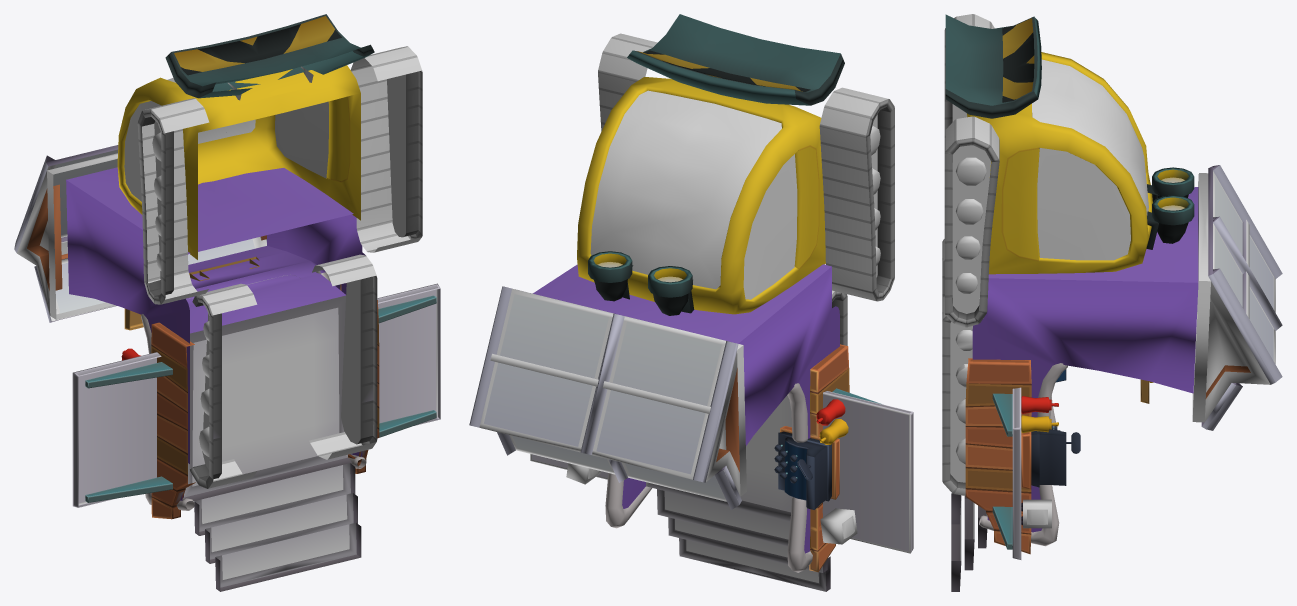
Rendered from FishDogTruck.fbx.
3 views of the same model, side by side, from view 1: azimuth 30°, elevation 25°; view 2: azimuth 150°, elevation 25°; view 3: azimuth 270°, elevation 25° (orthographic). The views are drawn at different scales.
Visible parts, largest first — view 1: FishDogTruck; view 2: FishDogTruck; view 3: FishDogTruck.
Part boxes in pixels (<box>): FishDogTruck: <box>14,14,440,591</box>; FishDogTruck: <box>469,14,913,591</box>; FishDogTruck: <box>942,14,1282,591</box>.
Size of the model in its own units: 352 by 473 by 288.
